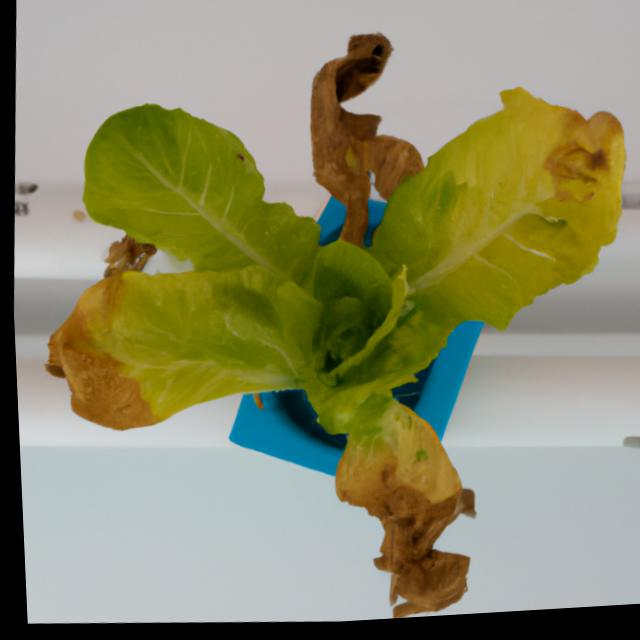-K: (11, 0, 640, 639)
